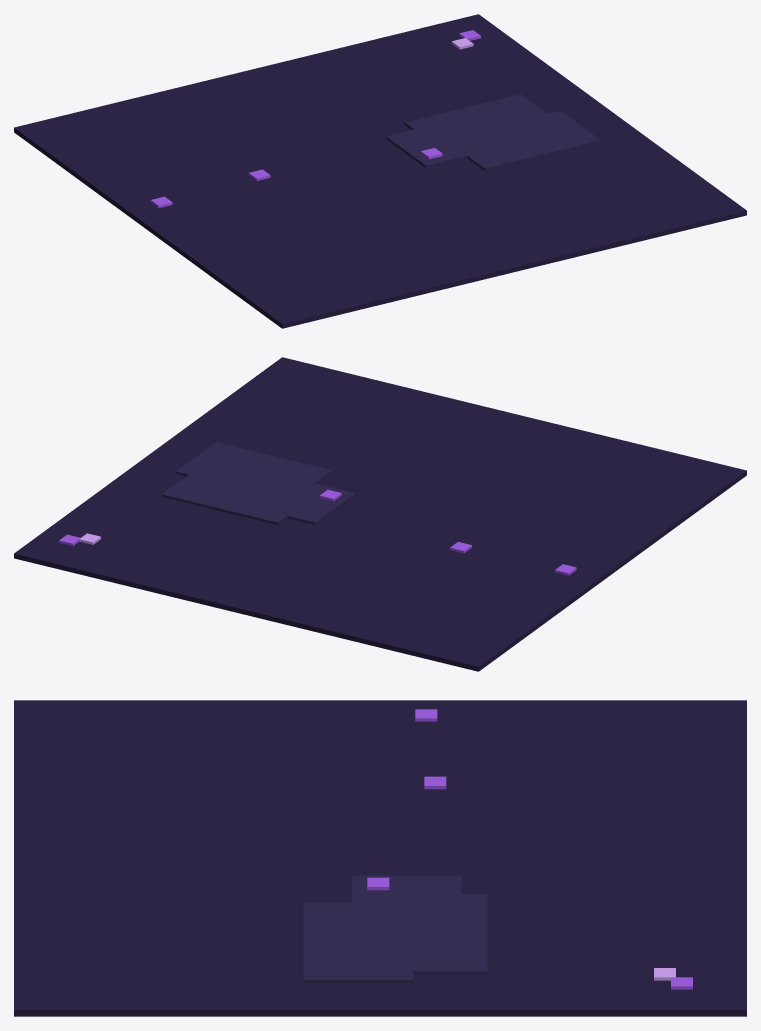
File: void_floor.glb
3 renders of one model, top to bottom at view 1: azimuth 30°, elevation 25°; view 2: azimuth 150°, elevation 25°; view 3: azimuth 270°, elevation 25°, orthographic. The views are drawn at different scales.
Visible parts, largest first — view 1: void_floor; view 2: void_floor; view 3: void_floor.
Part boxes in pixels (left/top/right/bottom): void_floor: left=14, top=14, right=746, bottom=328; void_floor: left=14, top=357, right=746, bottom=671; void_floor: left=14, top=700, right=746, bottom=1016.
Size of the model in its own units: 2 by 0.04 by 2.
